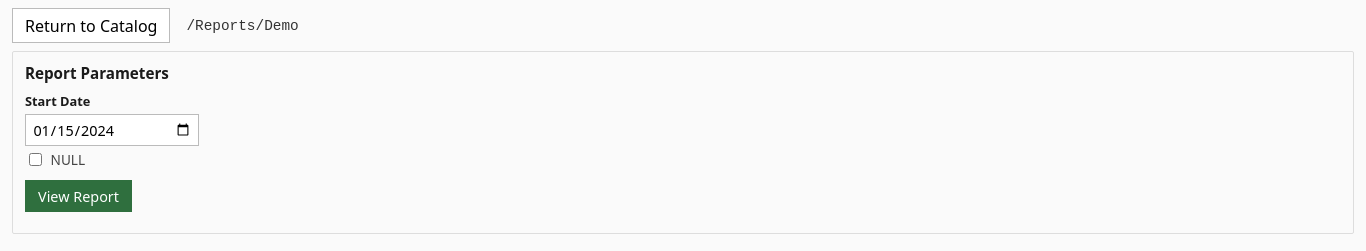
Test case: API Availability mid-session › flips API Availability unavailable when View Report rejects with a network TypeError
The width and height of the screenshot is (1366, 251).
Click the button "View Report" at (78, 196), box x1=25 y1=180 x2=132 y2=212
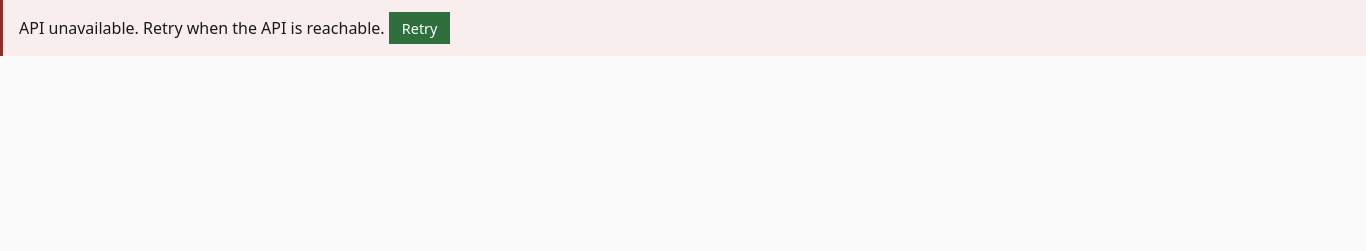
Expected: the button "Retry" is shown, x1=389 y1=12 x2=450 y2=44
